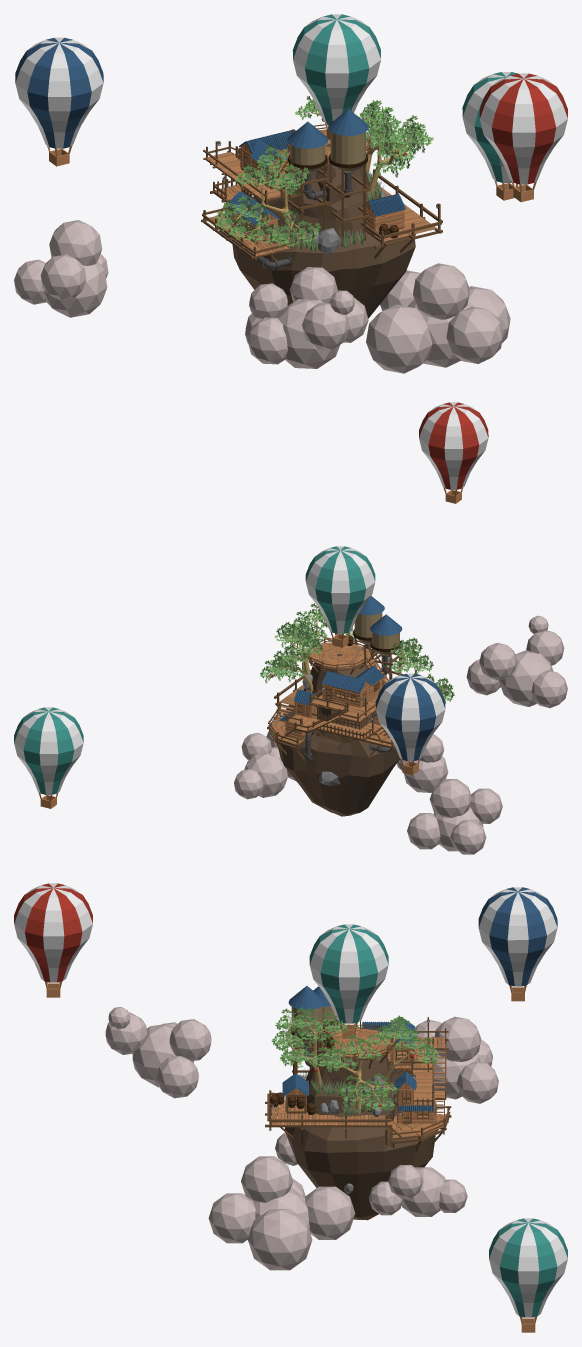
The model's file is island.glb.
3 renders of one model, top to bottom at view 1: azimuth 30°, elevation 25°; view 2: azimuth 150°, elevation 25°; view 3: azimuth 270°, elevation 25°, orthographic. The views are drawn at different scales.
Parts seen in each view (by area): view 1: pulau, balon udara panas.004, balon udara panas.006, balon udara panas.007, Icosphere.019, Icosphere.018, Icosphere.017, Icosphere.028, balon udara panas.005, Cube.316, Icosphere.012, Icosphere.032 (+23 smaller); view 2: pulau, balon udara panas.004, balon udara panas.007, balon udara panas.006, balon udara panas.005, Cube, rumah 2, Icosphere.028, Icosphere.012, Icosphere.021, Icosphere.030, Icosphere.031 (+12 smaller); view 3: pulau, balon udara panas.004, balon udara panas.007, balon udara panas.006, balon udara panas.005, Icosphere.020, Cube, Cube.316, Icosphere.016, Icosphere.017, Icosphere.018, Icosphere.028 (+16 smaller).
Boxes of the visible parts, x1,y1,x2,y2 form: pulau: [232, 144, 415, 318]; balon udara panas.004: [15, 37, 103, 148]; balon udara panas.006: [479, 73, 567, 184]; balon udara panas.007: [292, 14, 380, 124]; Icosphere.019: [366, 304, 432, 373]; Icosphere.018: [446, 306, 503, 363]; Icosphere.017: [413, 263, 469, 319]; Icosphere.028: [277, 299, 339, 368]; balon udara panas.005: [462, 72, 517, 182]; Cube.316: [361, 169, 442, 258]; Icosphere.012: [49, 220, 102, 265]; Icosphere.032: [302, 303, 350, 349]; pulau: [278, 654, 400, 816]; balon udara panas.004: [375, 673, 445, 761]; balon udara panas.007: [305, 546, 375, 633]; balon udara panas.006: [419, 402, 488, 489]; balon udara panas.005: [14, 707, 83, 794]; Cube: [281, 642, 392, 748]; rumah 2: [322, 666, 384, 707]; Icosphere.028: [499, 650, 553, 706]; Icosphere.012: [429, 779, 472, 817]; Icosphere.021: [244, 752, 287, 797]; Icosphere.030: [479, 642, 517, 680]; Icosphere.031: [531, 670, 567, 708]; pulau: [285, 1041, 436, 1220]; balon udara panas.004: [478, 887, 557, 986]; balon udara panas.007: [309, 924, 388, 1023]; balon udara panas.006: [14, 883, 92, 982]; balon udara panas.005: [489, 1218, 567, 1317]; Icosphere.020: [247, 1209, 312, 1270]; Cube: [322, 1017, 448, 1123]; Cube.316: [265, 1090, 401, 1145]; Icosphere.016: [304, 1186, 355, 1239]; Icosphere.017: [241, 1156, 292, 1202]; Icosphere.018: [208, 1193, 255, 1243]; Icosphere.028: [132, 1023, 193, 1087].
Bounding box in the file's own units: 3654 × 2425 × 3503.
20 materials, 2 textured.
